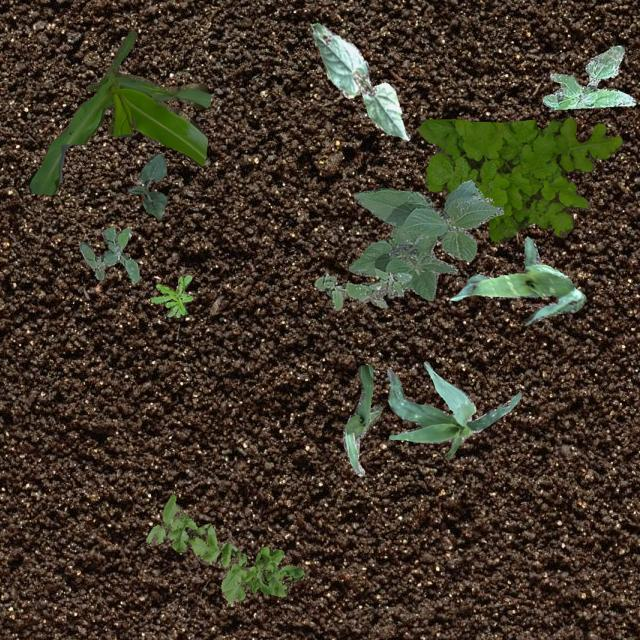crop: (27, 29, 210, 194), (348, 178, 502, 300), (386, 361, 520, 458), (308, 21, 409, 140), (448, 236, 584, 324), (342, 364, 381, 474), (126, 152, 166, 218)
weed: (418, 116, 622, 242), (144, 493, 302, 602), (542, 44, 634, 109), (314, 266, 411, 310), (78, 226, 138, 282), (148, 274, 192, 316), (382, 226, 402, 250)
